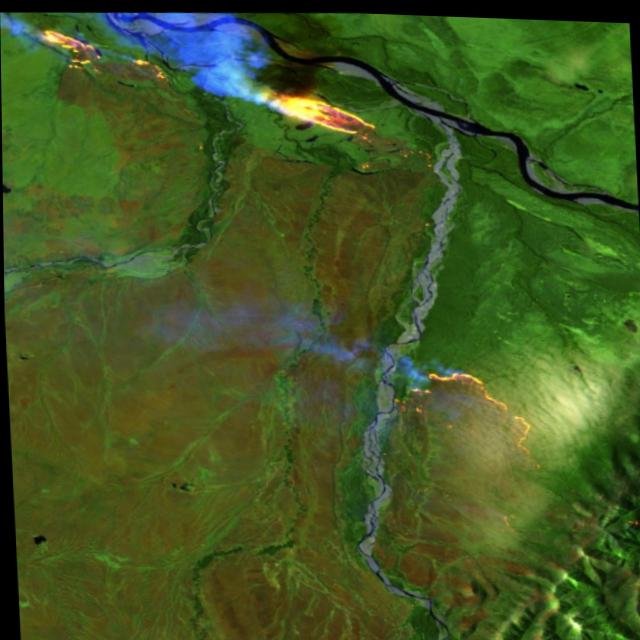fire: (375, 355, 544, 472), (234, 62, 390, 160), (32, 18, 176, 100)
